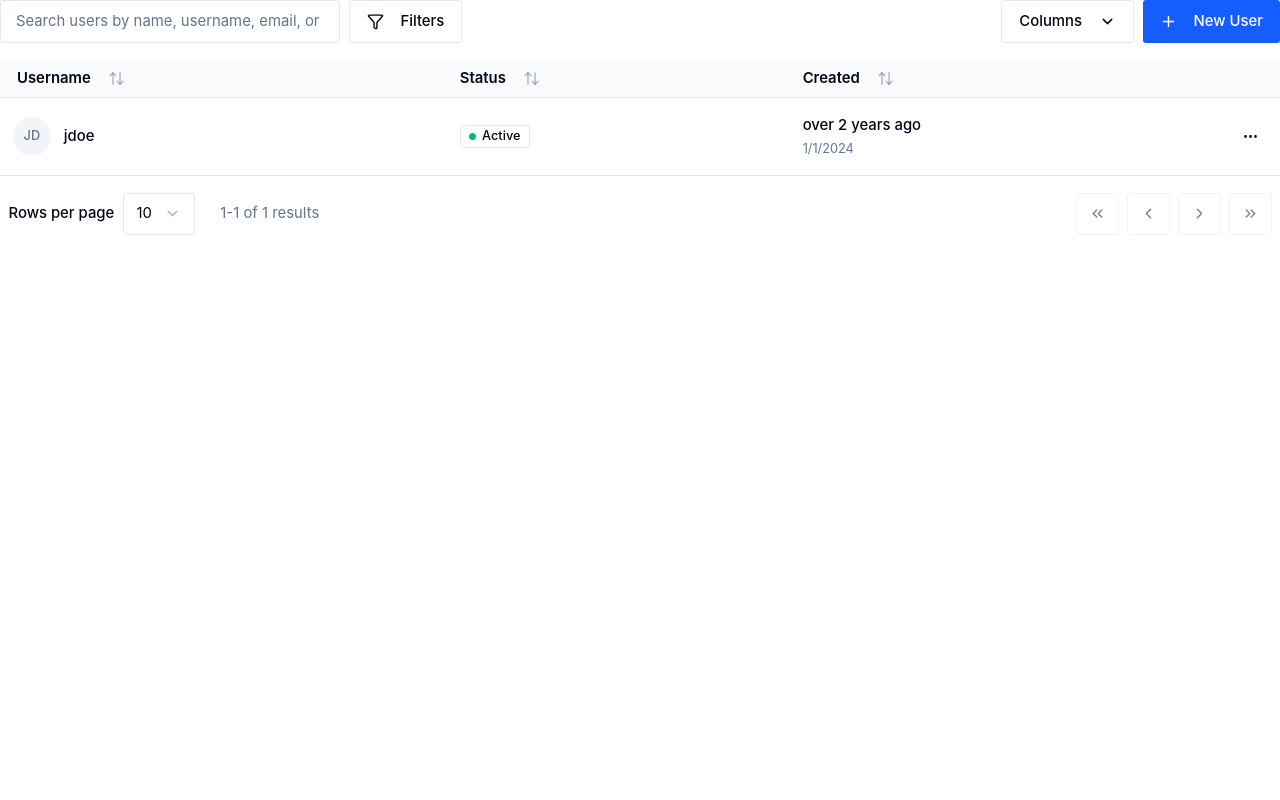
Test: UserListing › toggling a Status filter checkbox updates the API params and shows the chip
Click the button "Filters".
click(405, 21)  # box x1=348 y1=0 x2=462 y2=42
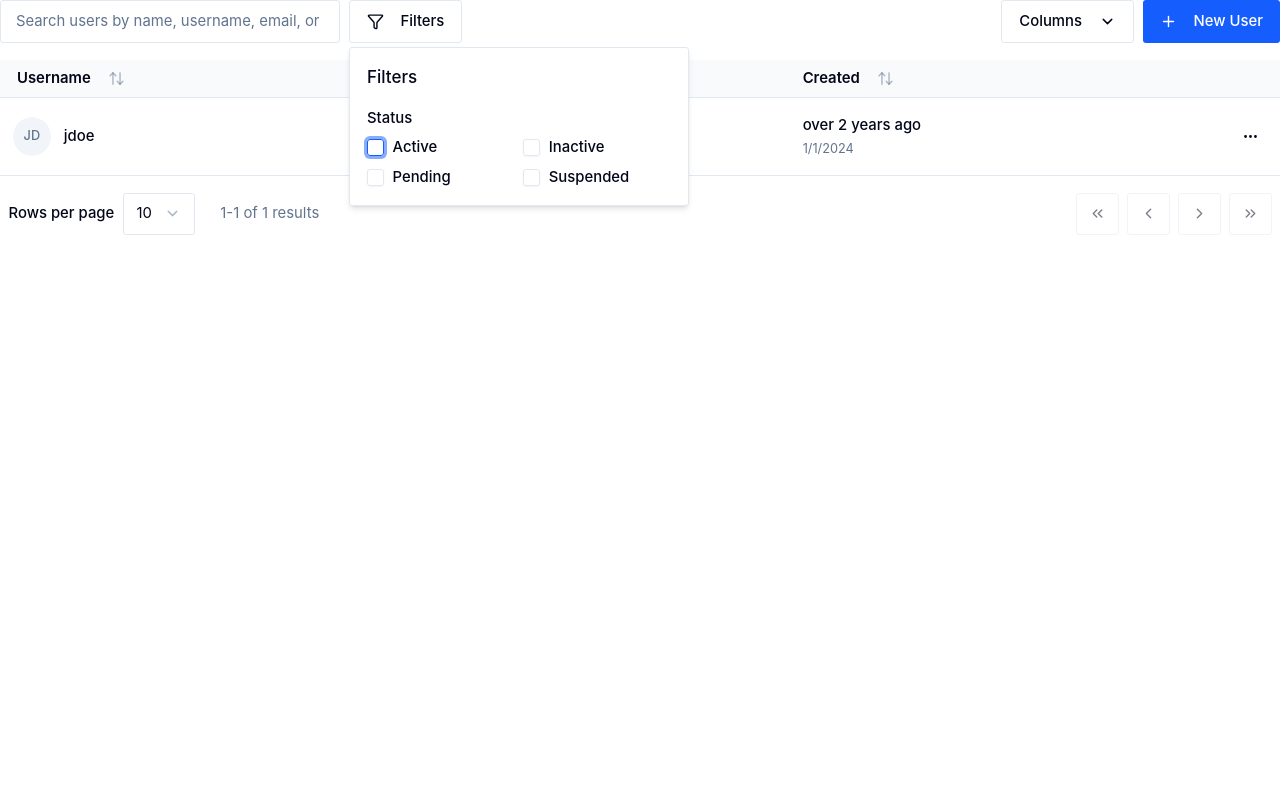
Click the 1st checkbox named "active".
click(376, 148)  # box x1=367 y1=139 x2=384 y2=156
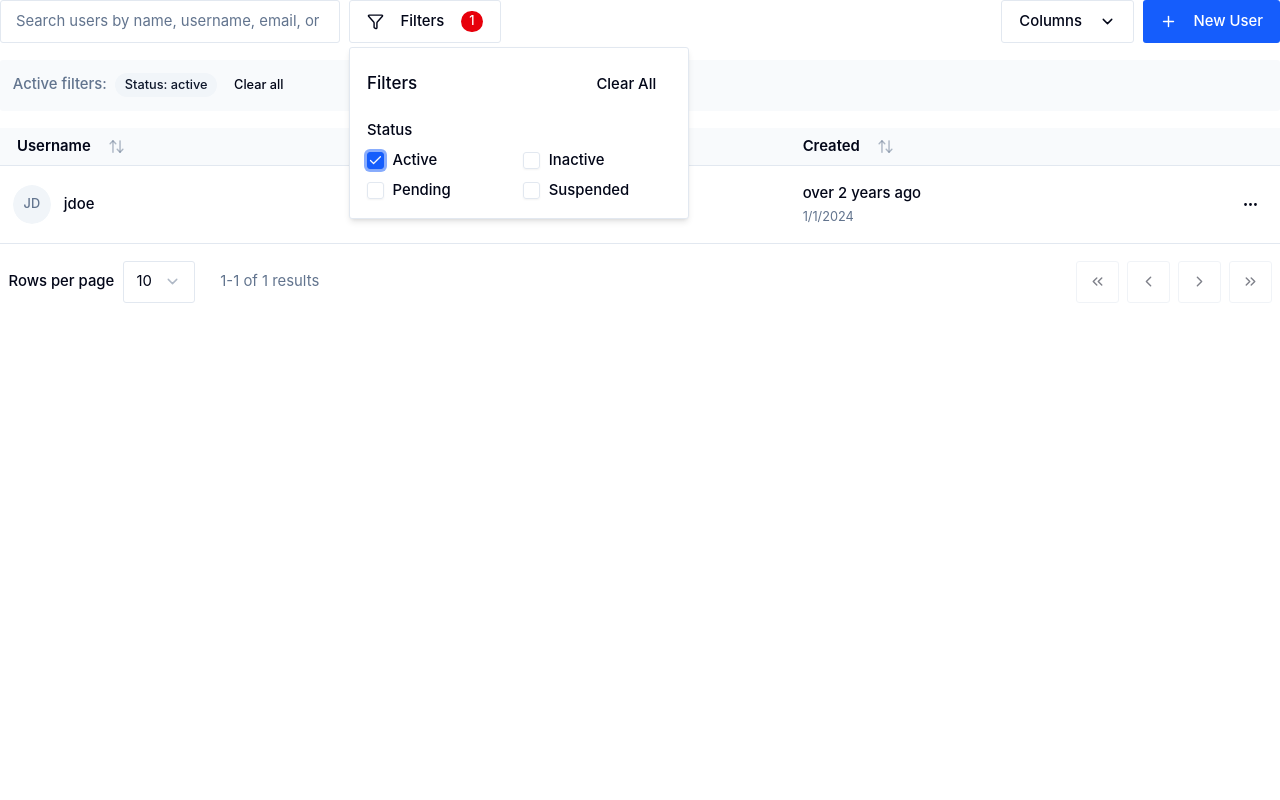
Now the text "Status: active" is shown, box x1=115 y1=73 x2=217 y2=97
